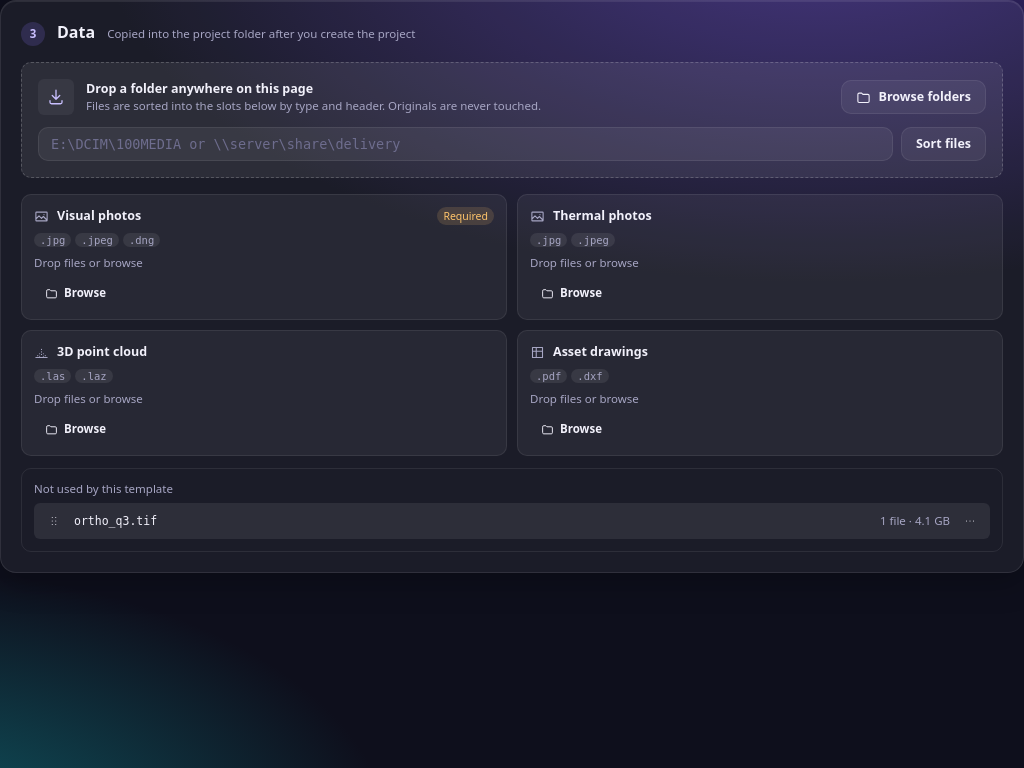
Test case: DataCard › lists a bucket no slot takes under Not used, where it can be skipped and used again
Click the button named "Move ortho_q3.tif" at (970, 521), box [956,507,984,535]
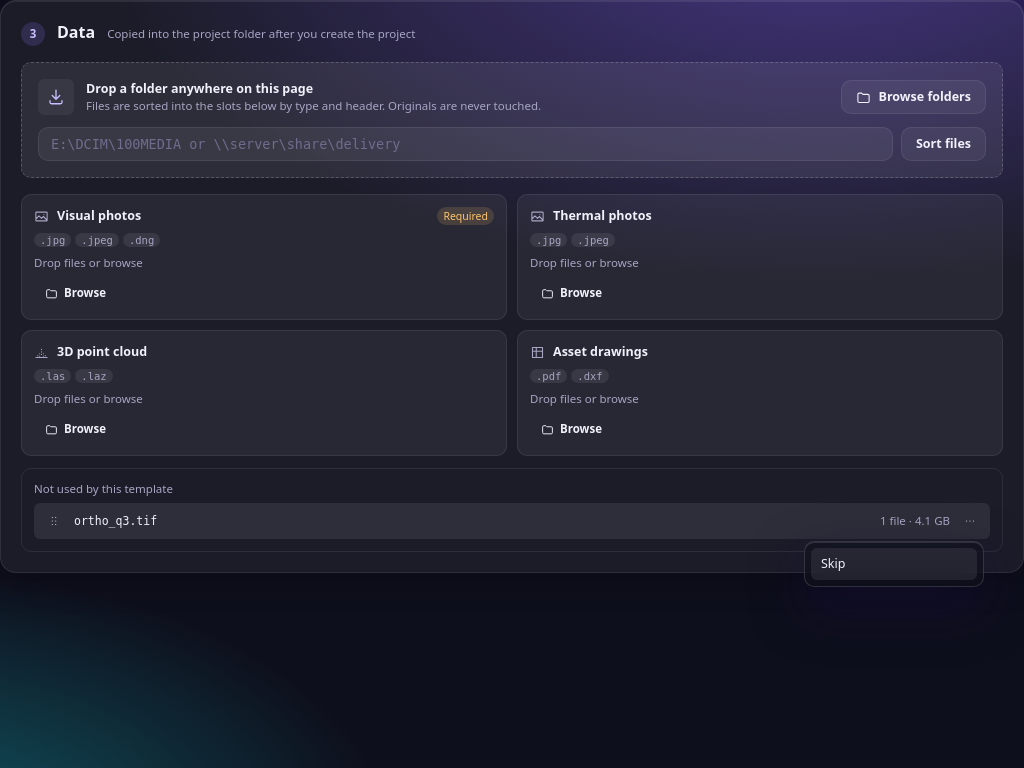
Click the menu item "Skip" at (894, 564), box [811,548,977,580]
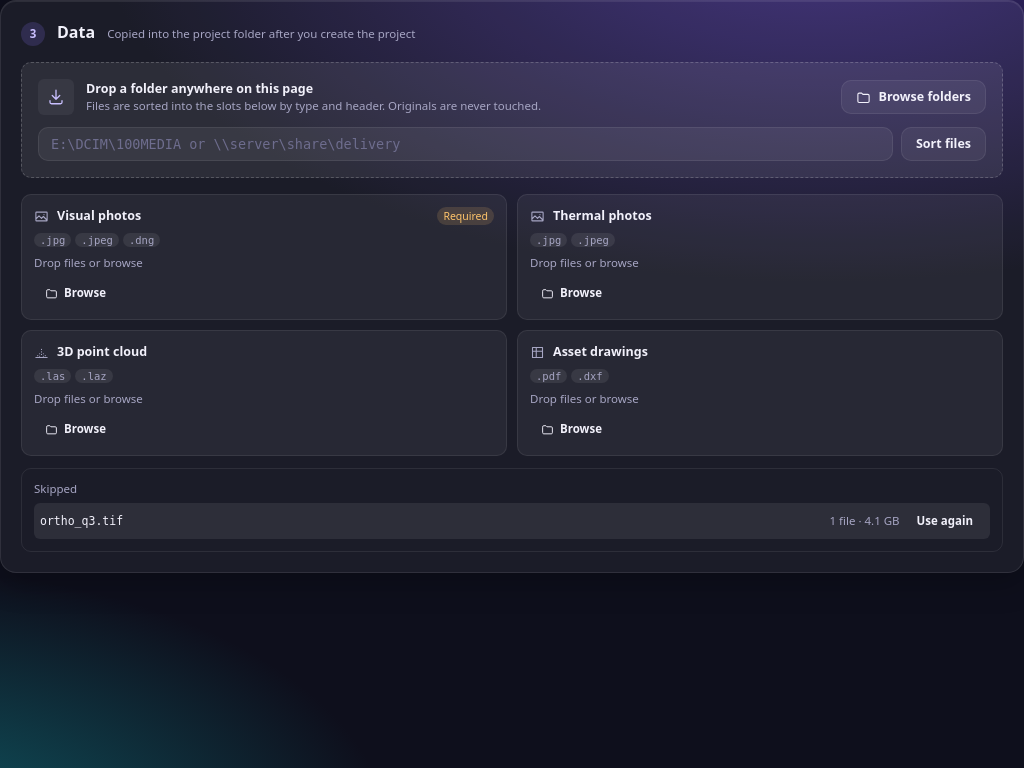
Result: the heading "Not used by this template" is gone
Click the button "Use again" at (945, 521), box [906,507,984,535]
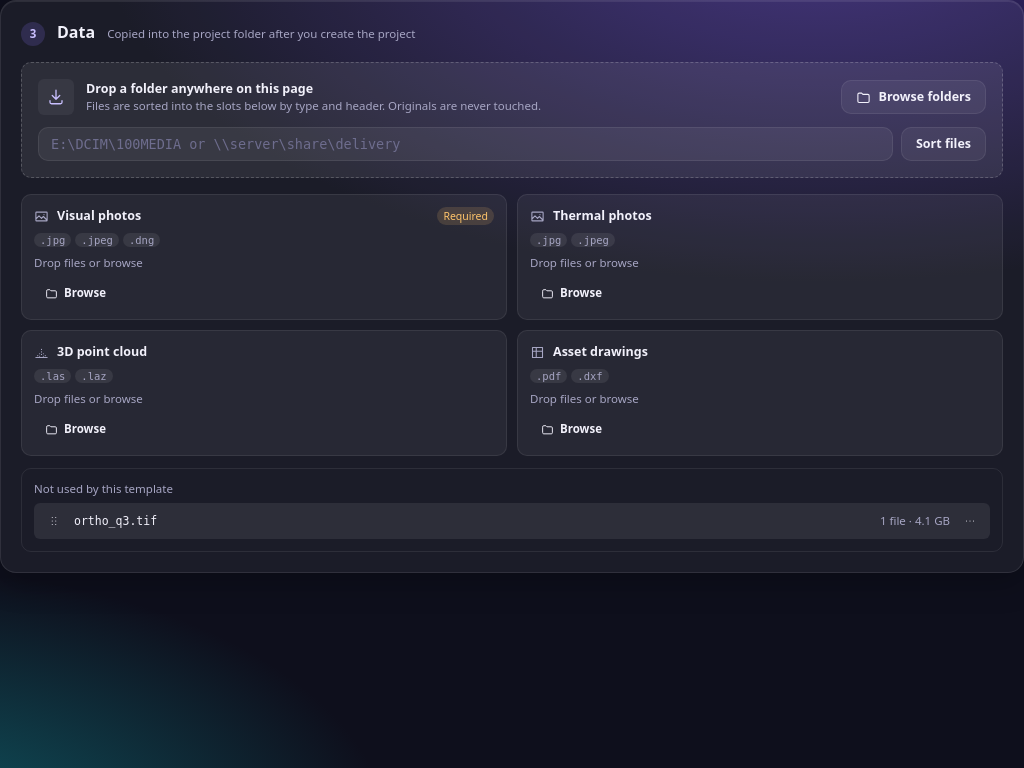
Result: the element "Not used by this template" is shown at [21,468,1003,552]
